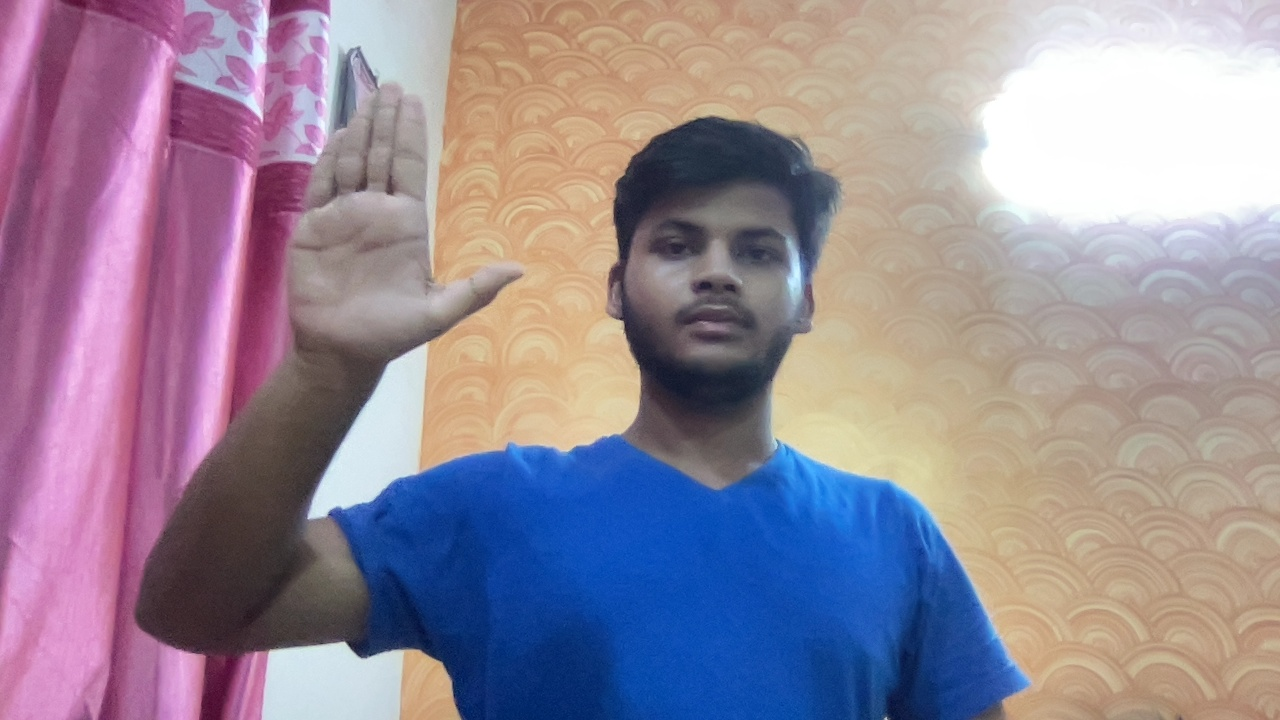hello: (280, 75, 531, 380)
